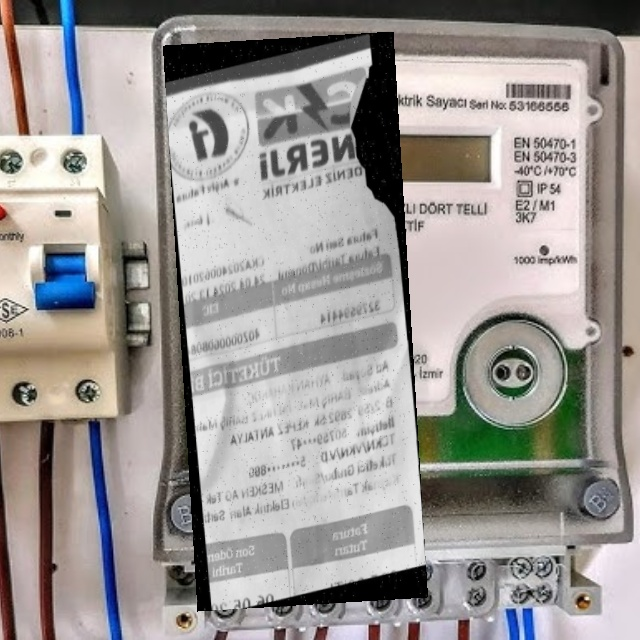electricity-bill: (163, 32, 428, 612)
